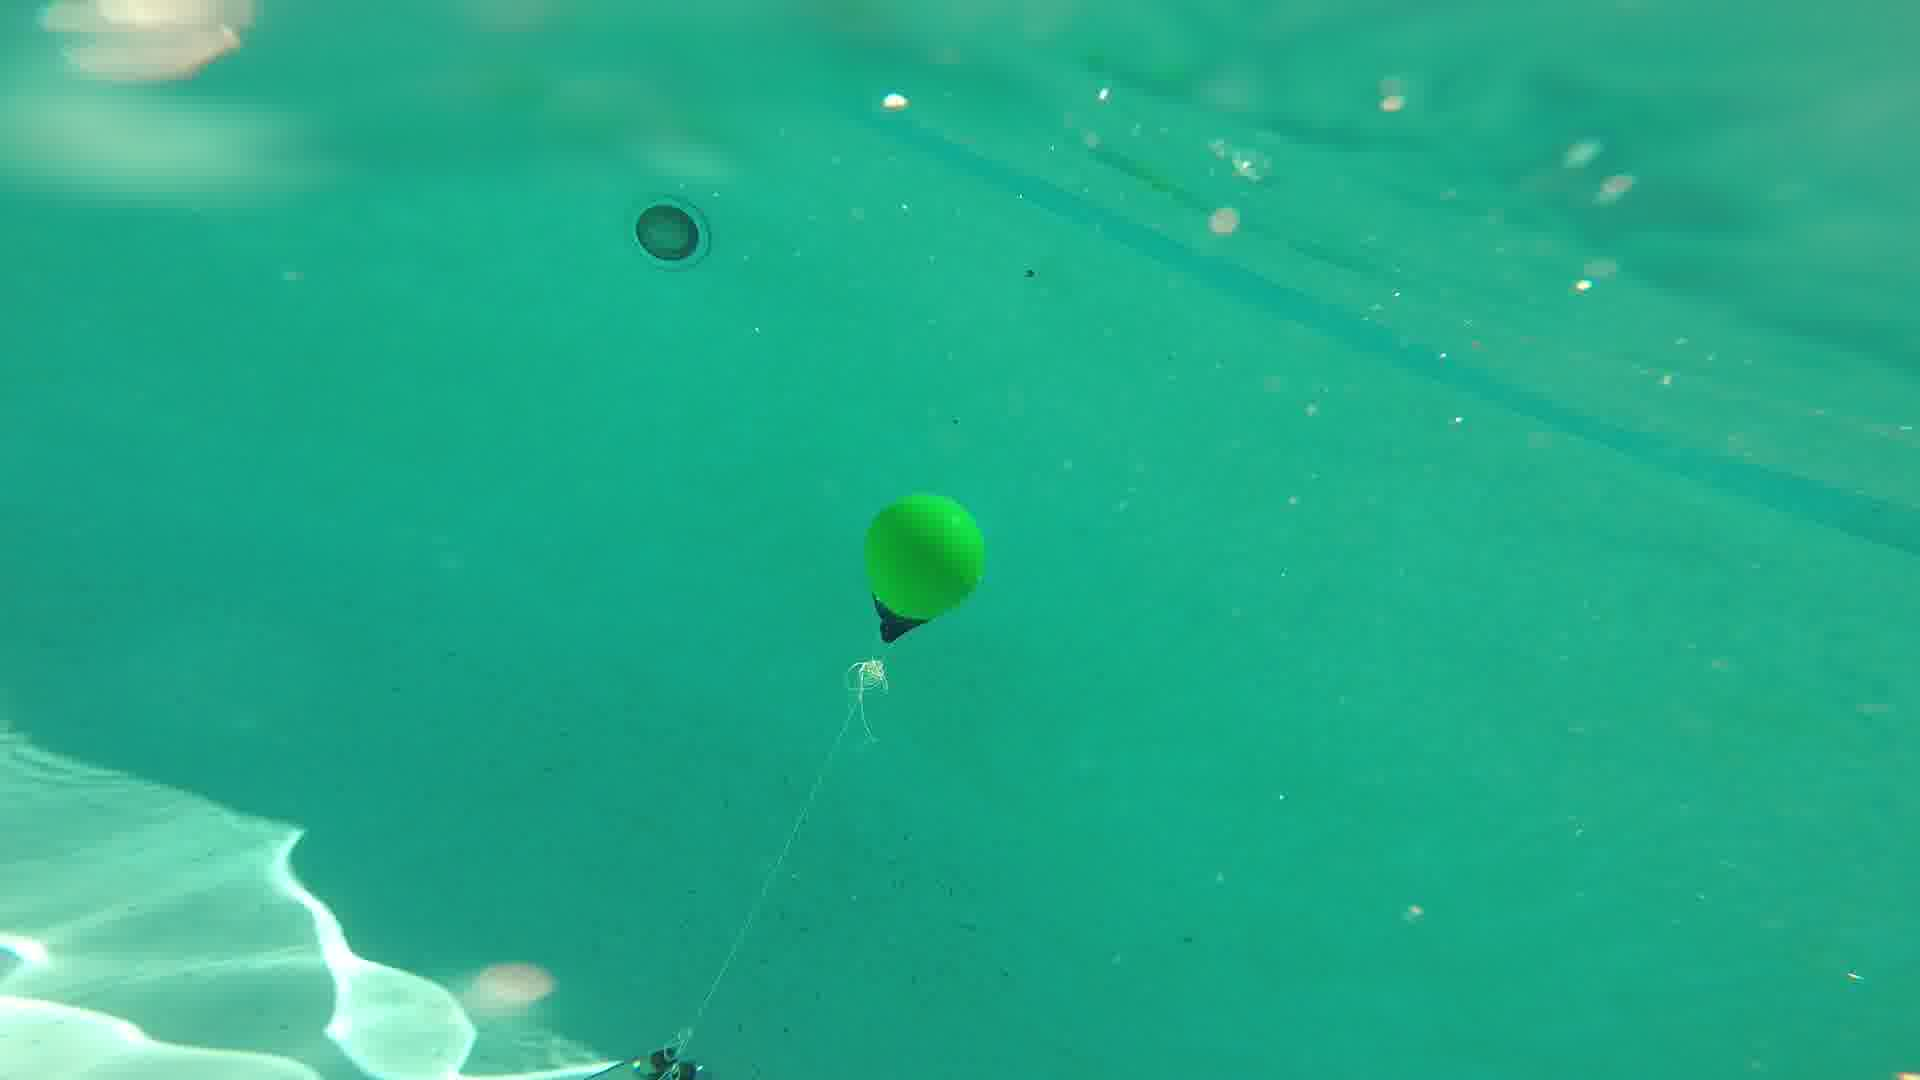yellow_buoy: (865, 491, 982, 642)
